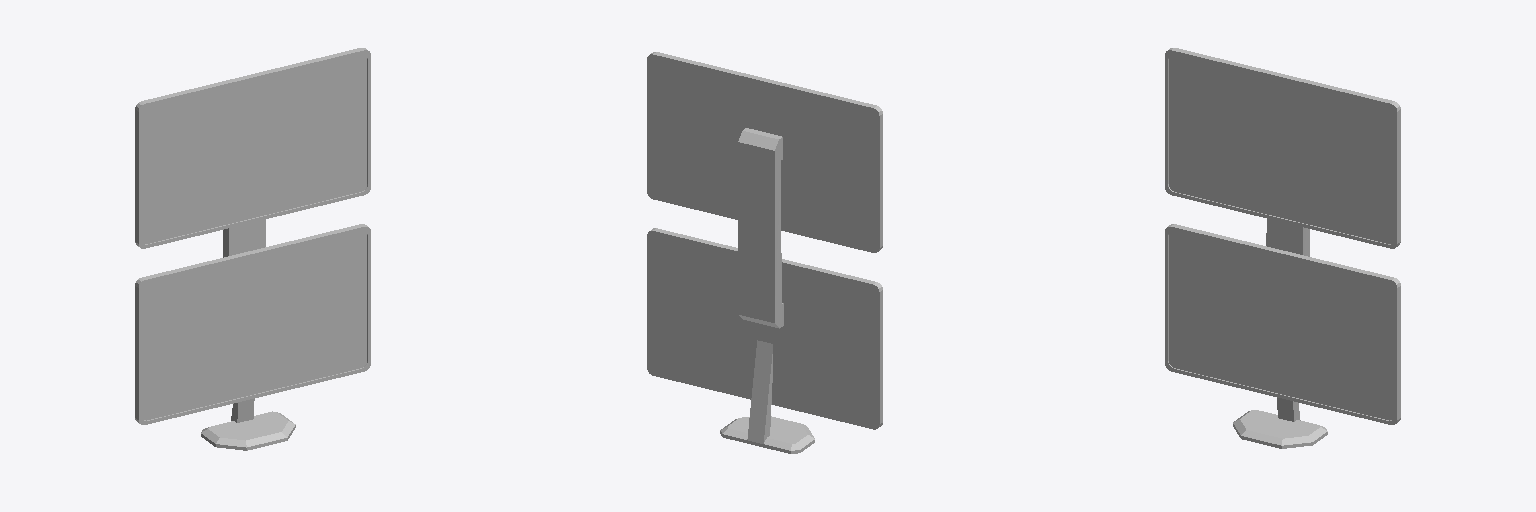
File: display.obj
3 renders of one model, left to right at view 1: azimuth 30°, elevation 25°; view 2: azimuth 150°, elevation 25°; view 3: azimuth 330°, elevation 25°, orthographic.
Parts seen in each view (by area): view 1: display; view 2: display; view 3: display.
Boxes of the visible parts, box(x1,y1,x2,y2) form: display: box(135, 48, 370, 450); display: box(647, 52, 882, 453); display: box(1165, 48, 1400, 448).
Size of the model in its own units: 0.684 by 1 by 0.1516.